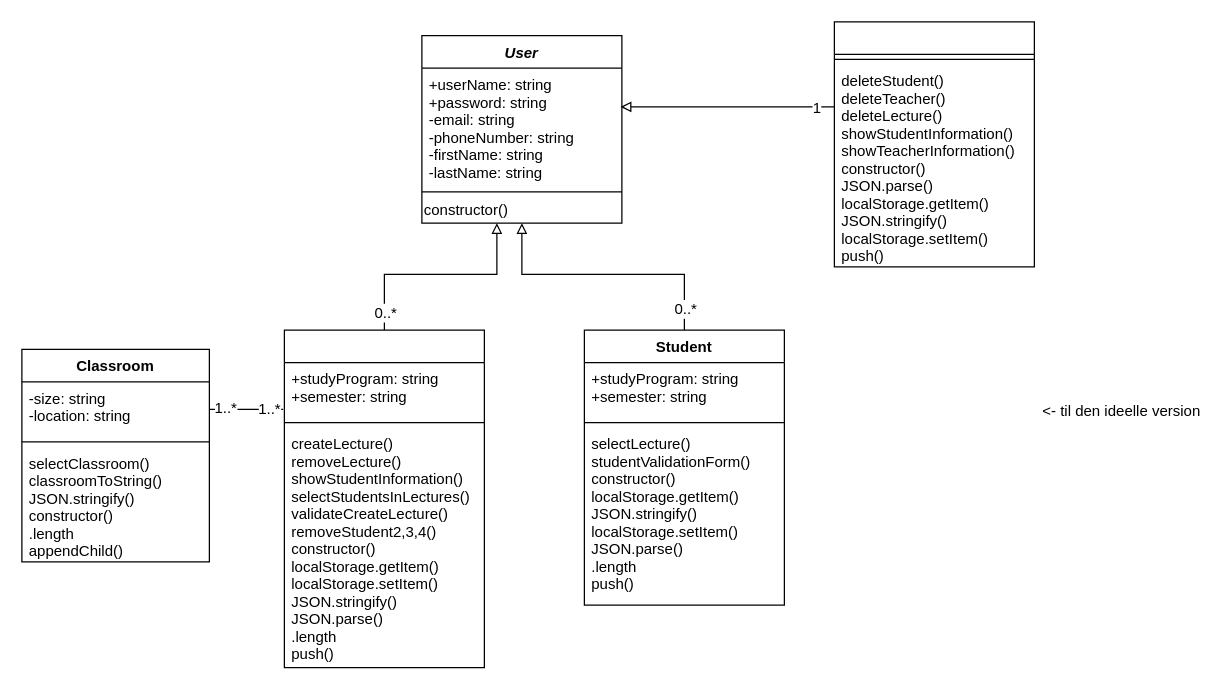
Image size: 1231x693. Some labels were removed from this diagram. Here are the shapes that lost their labels. From the top down, the box of each, then its label:
(833, 21, 1034, 267): Admin
(283, 329, 484, 668): Teacher
